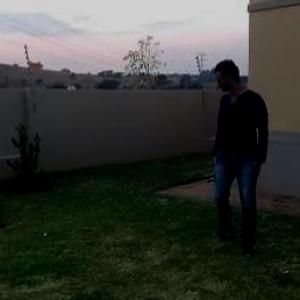follow: (206, 55, 274, 257)
